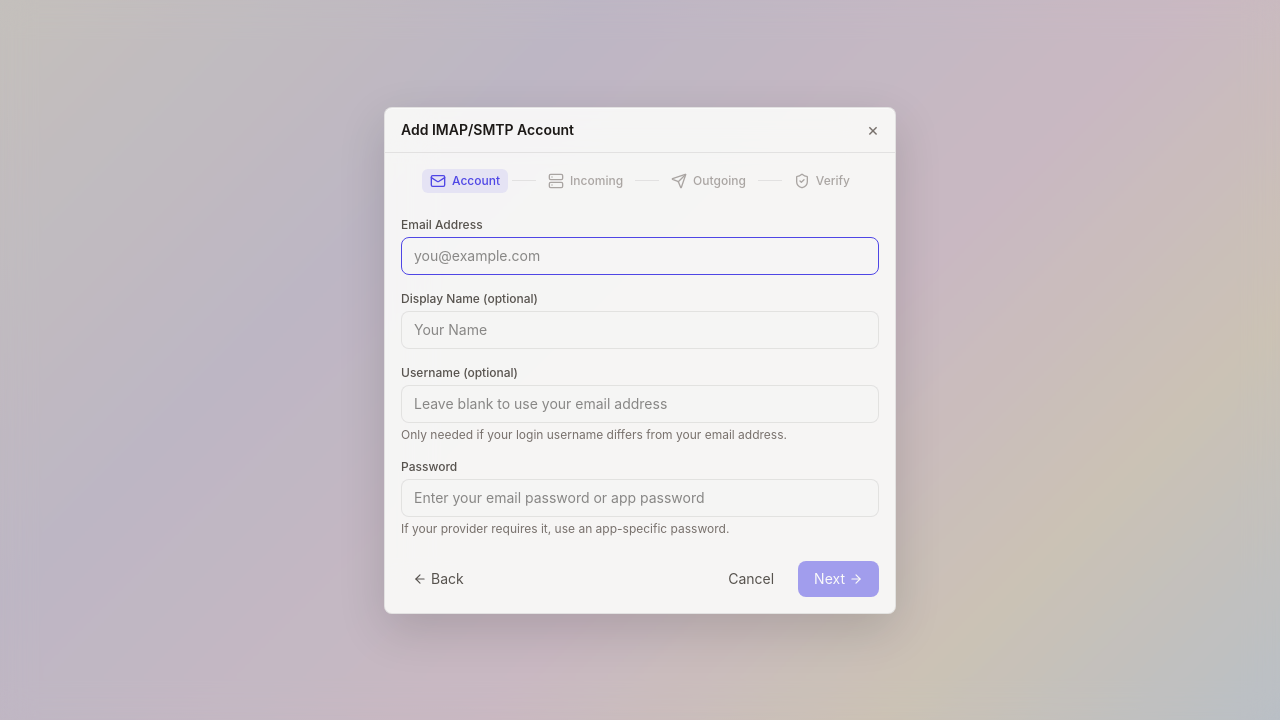
Test: AddImapAccount › only allows jumping to steps whose earlier steps are filled in
The image size is (1280, 720).
Check: the button "Incoming" is disabled, box [540,168,631,192]
Step 1. Type "me@x.io" into the field with placeholder "you@example.com" → (640, 256), box [401,236,879,274]
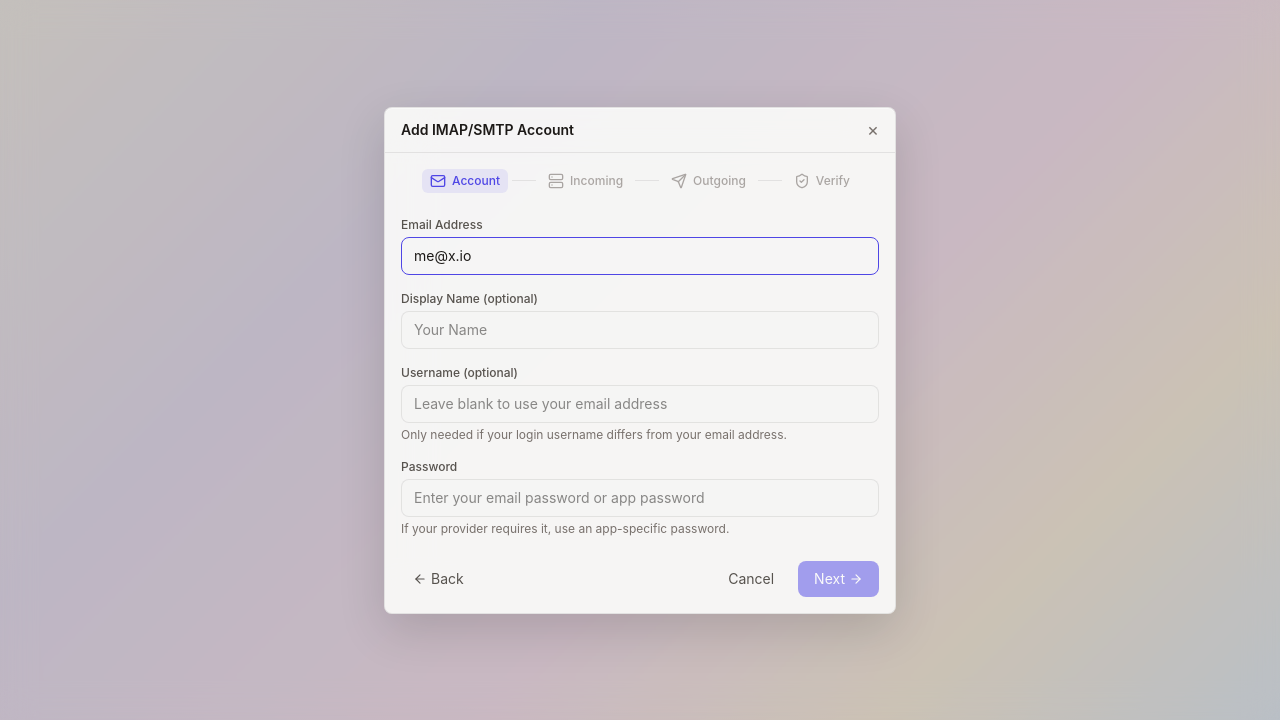
Step 2. Type "pw" into the password field with placeholder "Enter your email password or app password" → (640, 498), box [401,478,879,516]
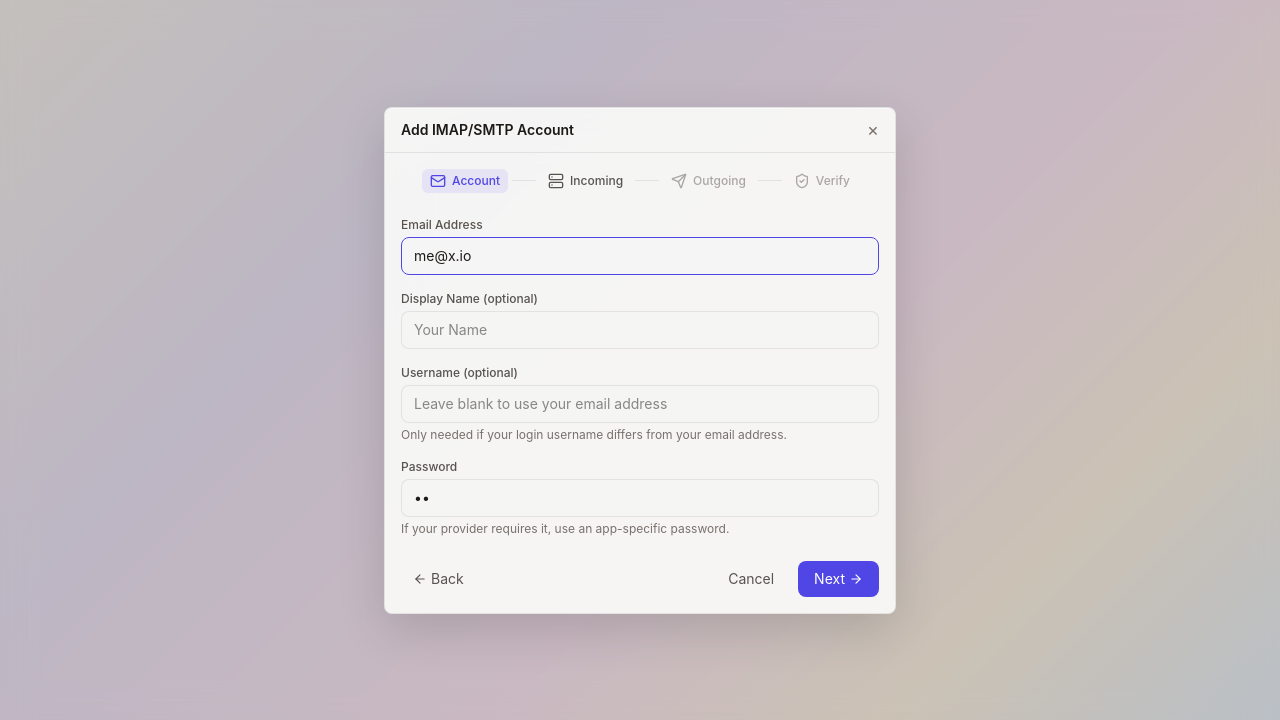
Check: the button "Outgoing" is disabled, box [663,168,754,192]
Check: the button "Incoming" is enabled
Step 3. Click the button "Incoming" → (586, 180), box [540,168,631,192]
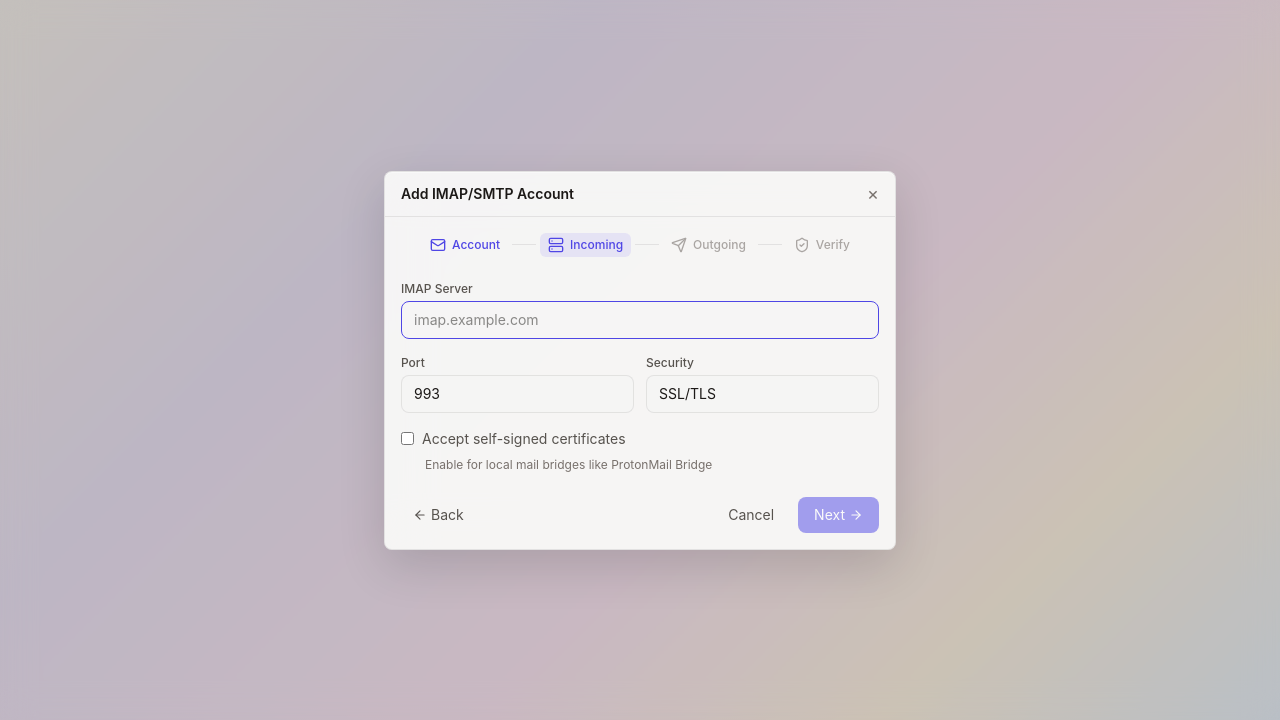
Step 4. Type "imap.x.io" into the field with placeholder "imap.example.com" → (640, 320), box [401,300,879,338]
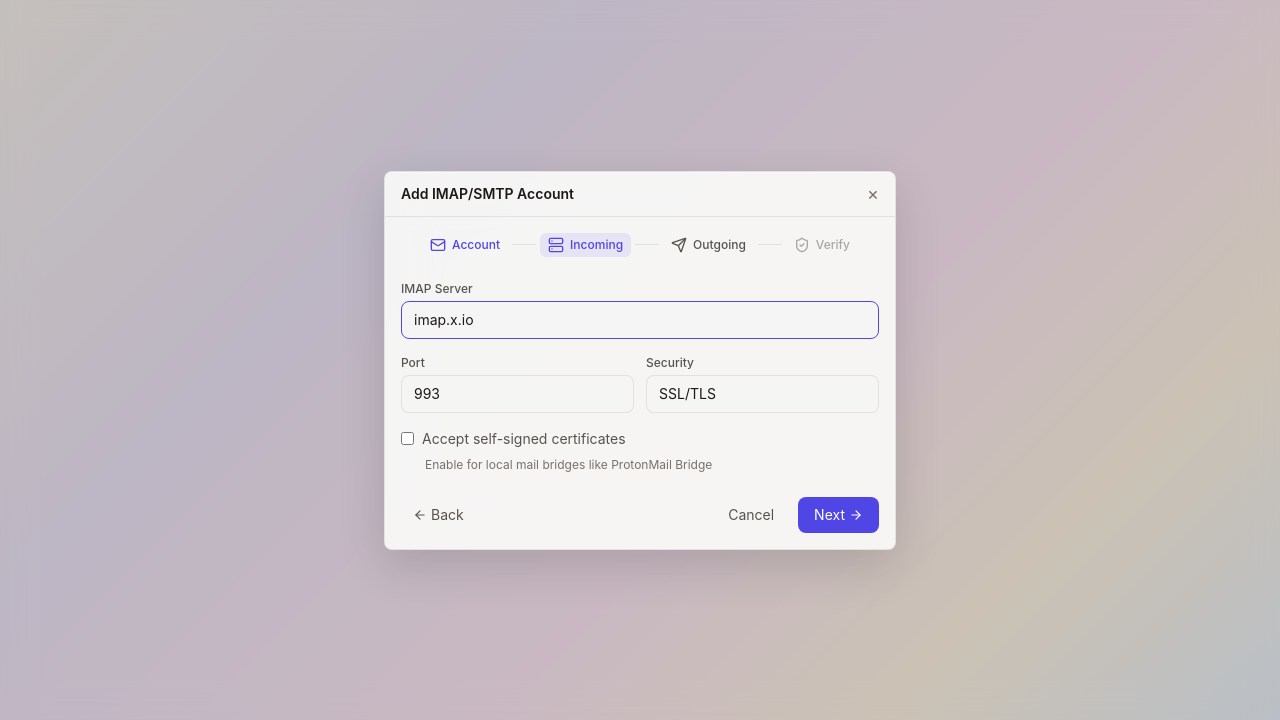
Step 5. Click the button "Outgoing" → (708, 244), box [663,232,754,256]
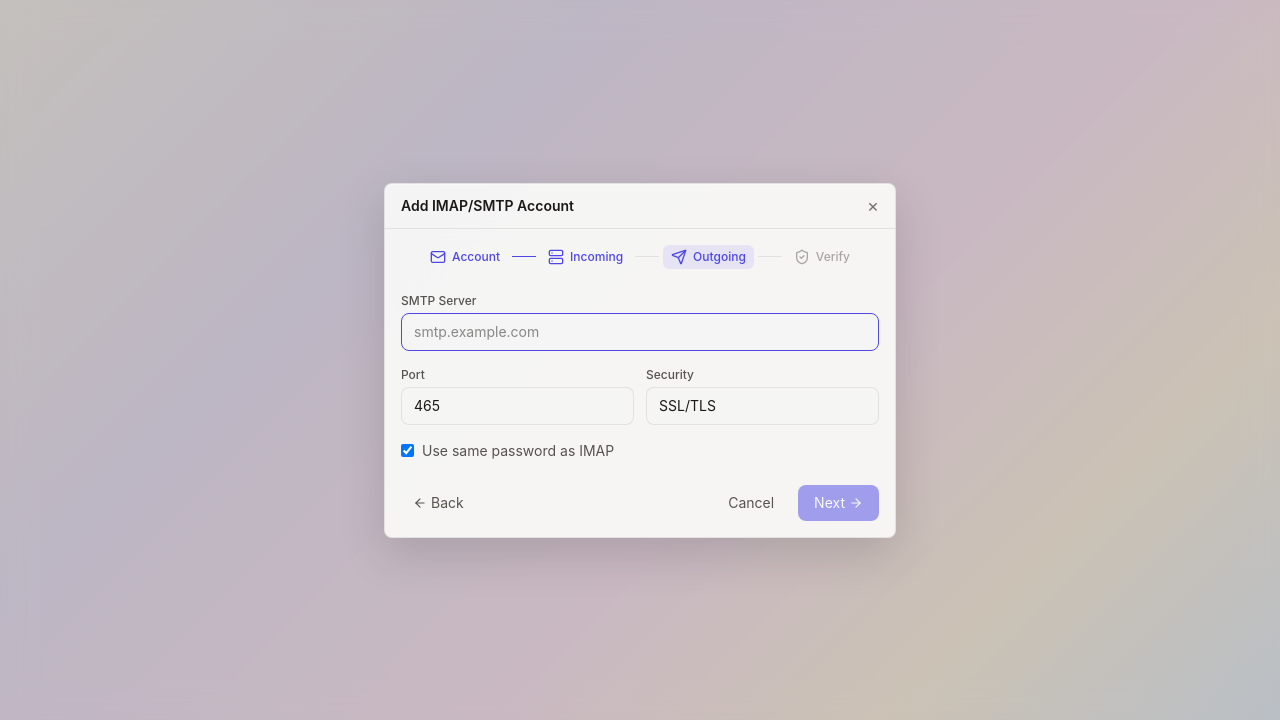
Check: the field with placeholder "smtp.example.com" is shown, box [401,312,879,350]
Step 6. Click the button "Account" → (465, 256), box [422,244,508,268]
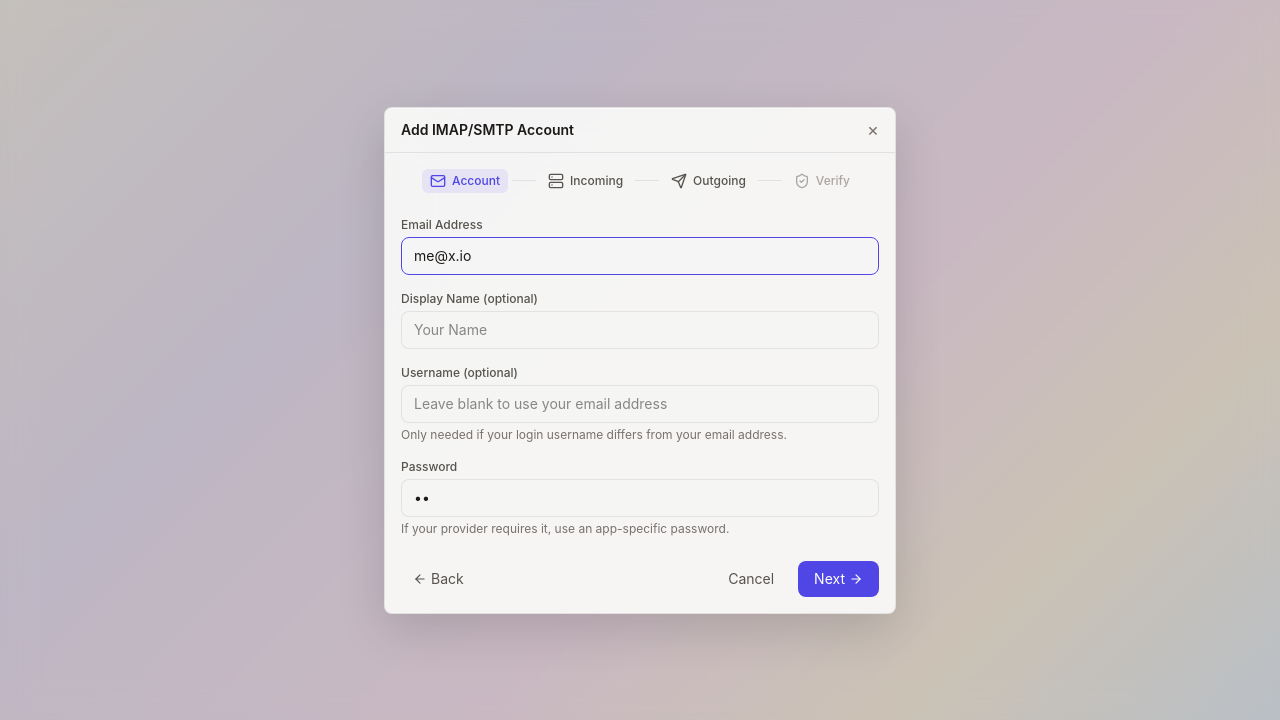
Check: the field showing "me@x.io" is shown, box [401,236,879,274]
